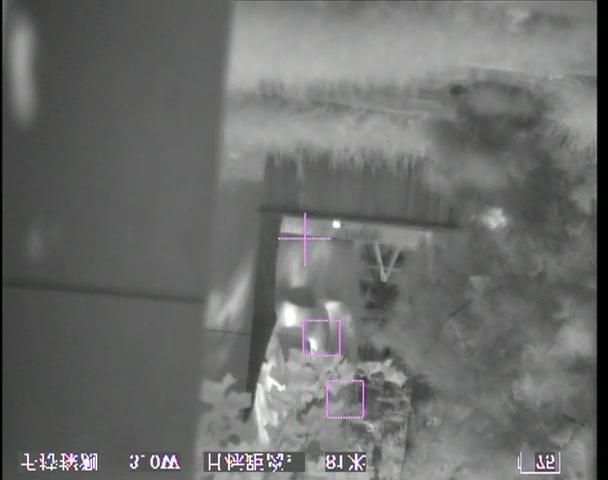my: (331, 218, 341, 228)
